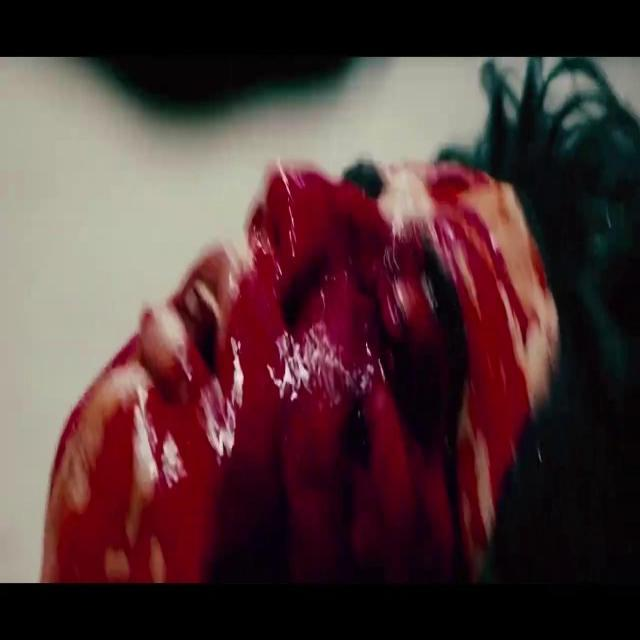flood: (29, 181, 526, 586)
